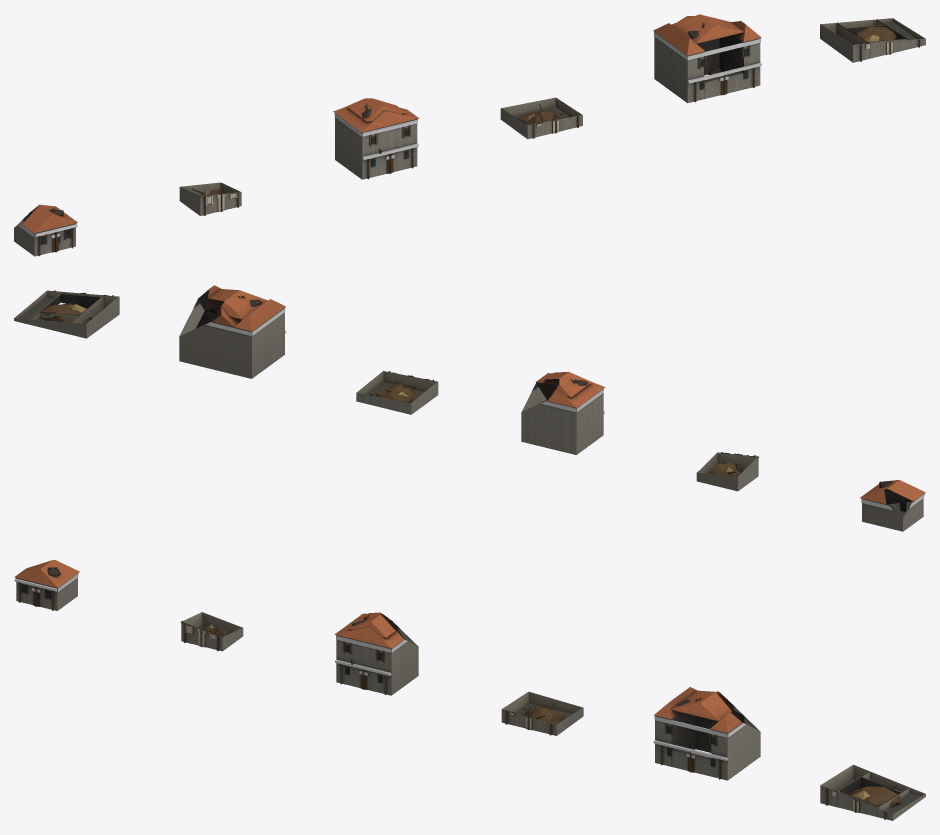
Rendered from gunpowder-monsoon-houses-damage.glb.
3 views of the same model, one above another, from view 1: azimuth 30°, elevation 25°; view 2: azimuth 150°, elevation 25°; view 3: azimuth 330°, elevation 25° (orthographic).
Parts seen in each view (by area): view 1: LOD0.004, LOD0.002, LOD0.005, LOD0, LOD0.003, LOD0.001; view 2: LOD0.004, LOD0.002, LOD0.005, LOD0, LOD0.003, LOD0.001; view 3: LOD0.004, LOD0.002, LOD0.005, LOD0, LOD0.003, LOD0.001.
Part boxes in pixels (x1,y1,x2,y2): LOD0.004: [653, 14, 761, 103]; LOD0.002: [333, 98, 419, 179]; LOD0.005: [820, 18, 925, 62]; LOD0: [14, 204, 77, 256]; LOD0.003: [500, 97, 582, 139]; LOD0.001: [179, 182, 241, 215]; LOD0.004: [179, 285, 286, 378]; LOD0.002: [521, 371, 605, 454]; LOD0.005: [14, 290, 119, 338]; LOD0: [860, 480, 925, 531]; LOD0.003: [356, 371, 438, 414]; LOD0.001: [696, 452, 758, 491]; LOD0.004: [653, 687, 760, 780]; LOD0.002: [334, 612, 418, 695]; LOD0.005: [820, 764, 925, 820]; LOD0: [14, 560, 79, 610]; LOD0.003: [501, 691, 583, 735]; LOD0.001: [181, 612, 243, 651].
Size of what is drawn, in the model's own units: 16.06 by 1.08 by 1.11.
Materials: 2 (2 with a texture image).
